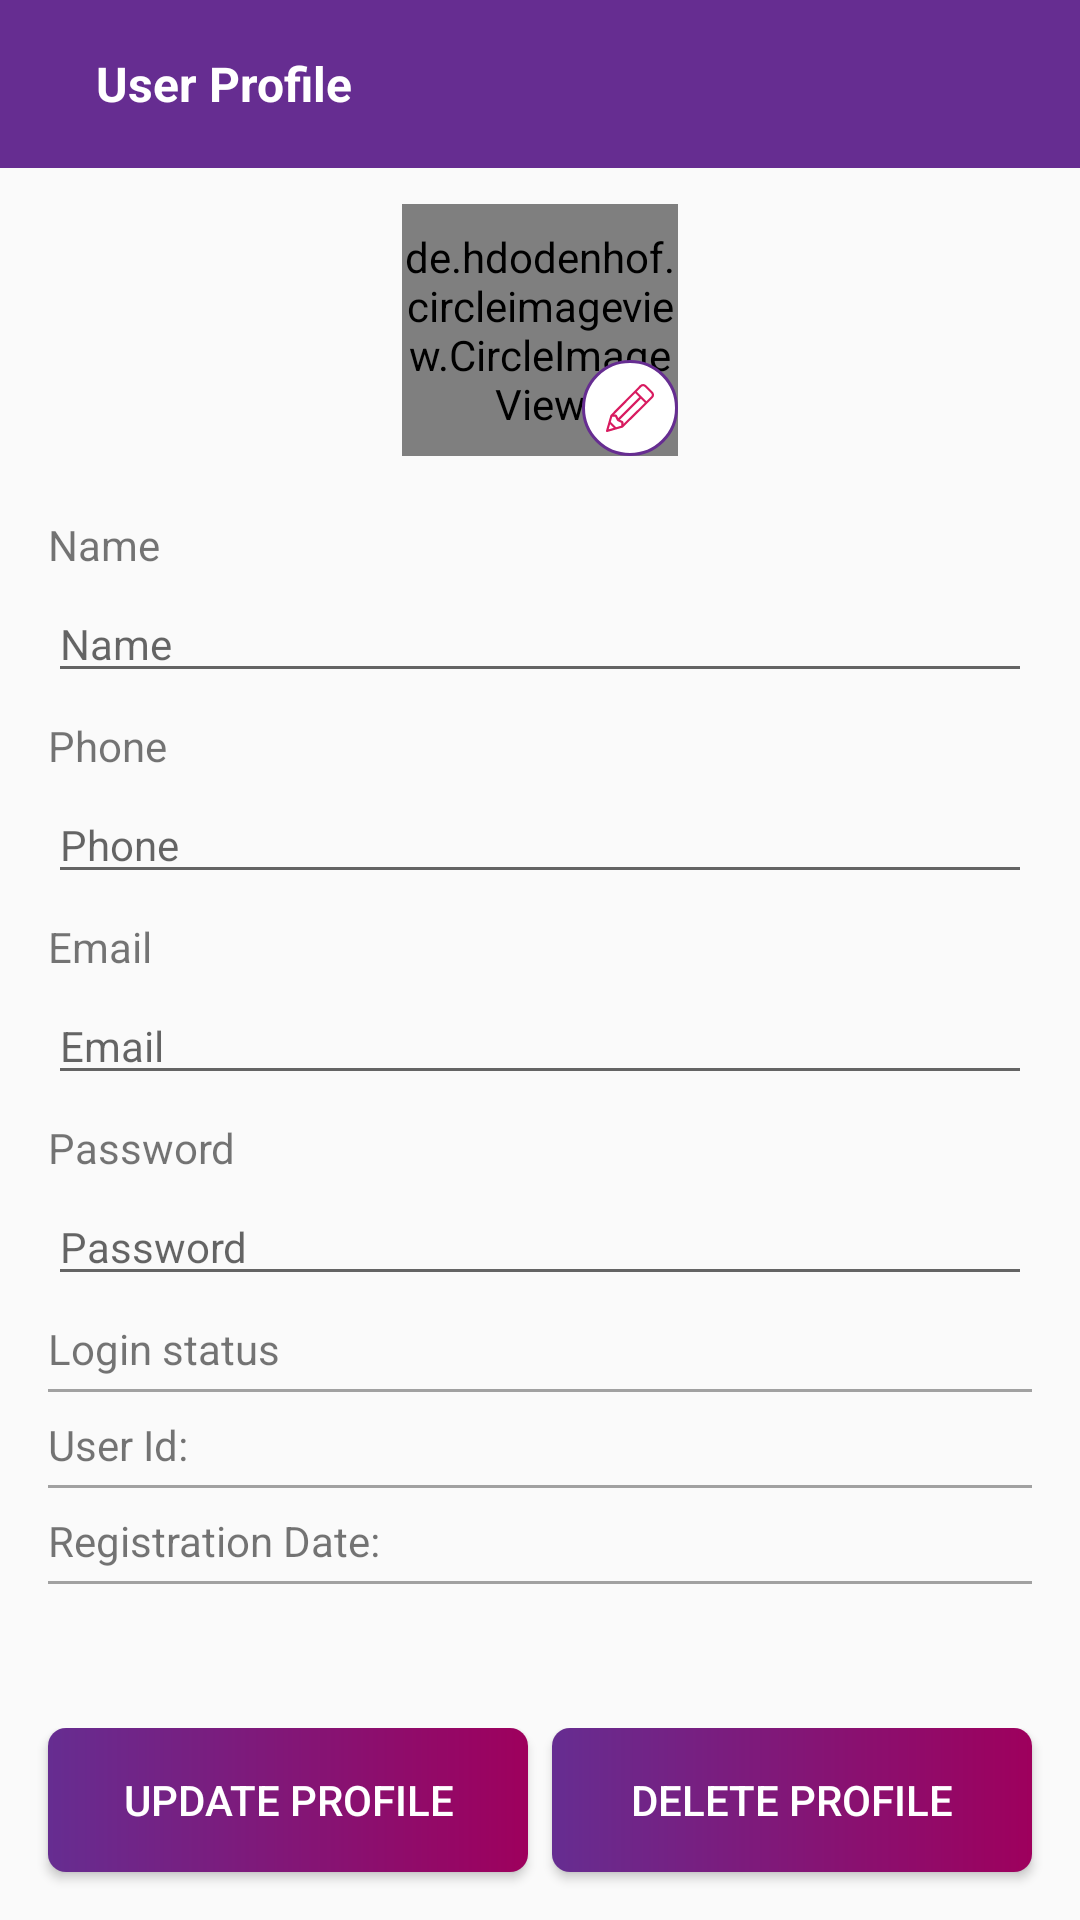

Point at icon controls on the screen. Image size 1080x1920, points as point (x, y).
pencil: point (630, 408)
